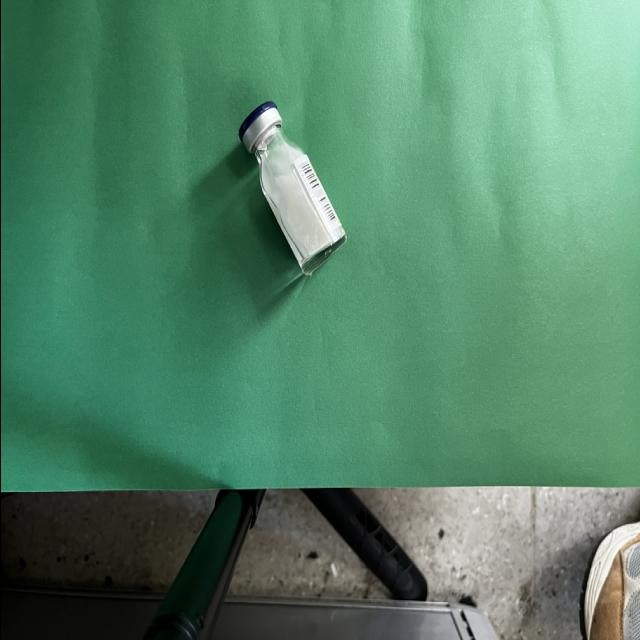Vials: (237, 101, 346, 276)
